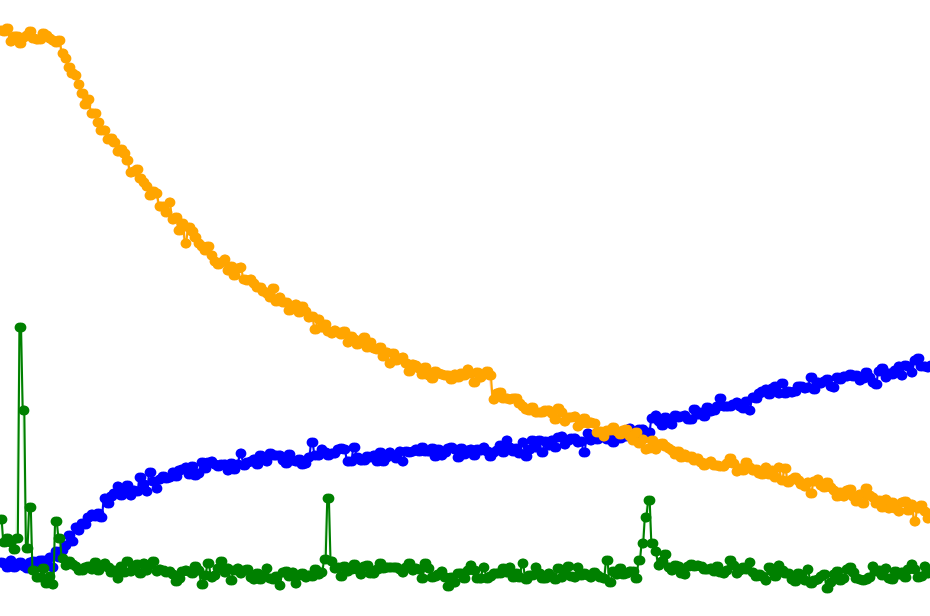CO2 Problem: (388, 0, 661, 616), (661, 0, 930, 616), (116, 0, 272, 616), (388, 0, 505, 616), (272, 0, 388, 616)
Condensation (CO2): (116, 0, 233, 616)
Low O2: (583, 0, 930, 616), (661, 0, 930, 616), (699, 0, 930, 616), (777, 0, 930, 616), (816, 0, 930, 616)
Normal: (272, 0, 930, 616), (388, 0, 930, 616), (0, 0, 388, 616), (583, 0, 930, 616), (388, 0, 661, 616), (0, 0, 272, 616), (116, 0, 388, 616), (661, 0, 930, 616), (388, 0, 622, 616), (699, 0, 930, 616), (388, 0, 583, 616), (738, 0, 930, 616), (116, 0, 272, 616), (777, 0, 930, 616), (116, 0, 233, 616), (272, 0, 388, 616), (0, 0, 77, 616), (661, 0, 738, 616)
O2 Problem: (388, 0, 930, 616), (738, 0, 930, 616), (116, 0, 272, 616), (388, 0, 505, 616), (272, 0, 388, 616)
